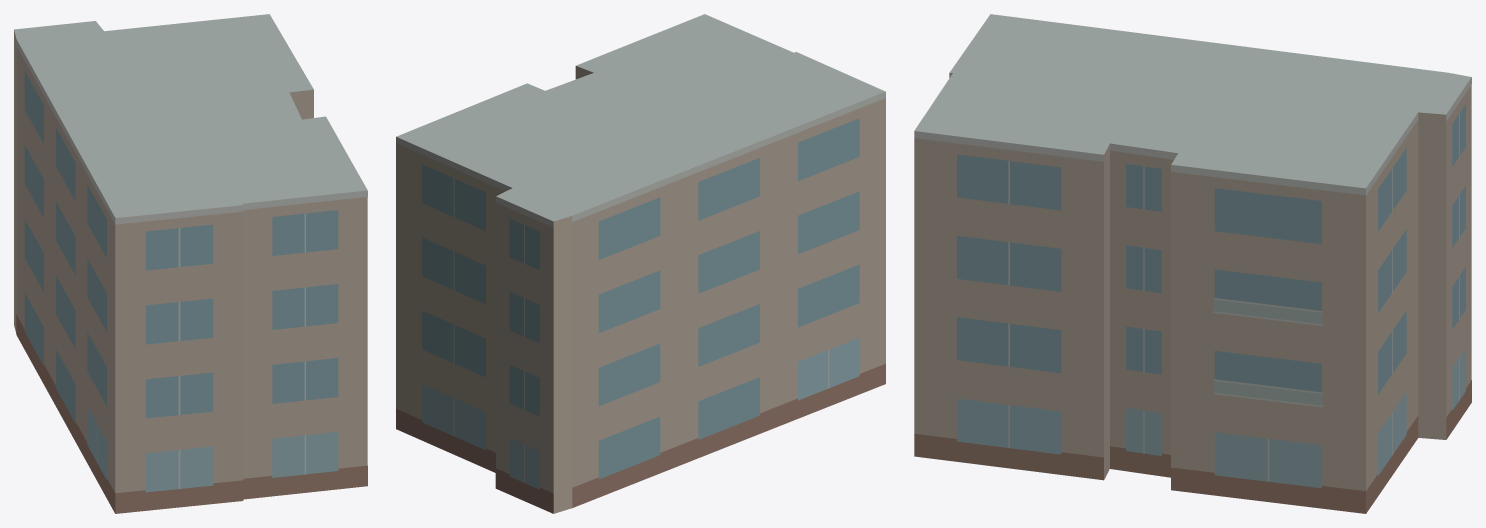
Rendered from survey-upis-32868391.glb.
The picture shows the model from 3 angles, left to right: view 1: azimuth 30°, elevation 25°; view 2: azimuth 150°, elevation 25°; view 3: azimuth 270°, elevation 25°; orthographic projection. The views are drawn at different scales.
Visible parts, largest first — view 1: survey-upis-32868391.tmp; view 2: survey-upis-32868391.tmp; view 3: survey-upis-32868391.tmp.
Boxes of the visible parts, bbox=[...] form: survey-upis-32868391.tmp: bbox=[14, 14, 367, 513]; survey-upis-32868391.tmp: bbox=[396, 14, 885, 513]; survey-upis-32868391.tmp: bbox=[914, 14, 1471, 513].
Size of the model in its own units: 12.88 by 11.2 by 17.4.
